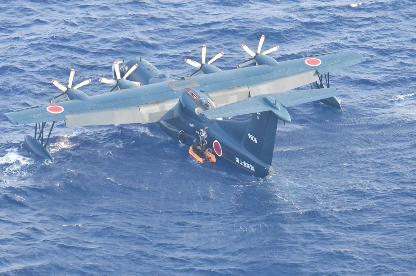Tu95: (2, 33, 366, 177)
